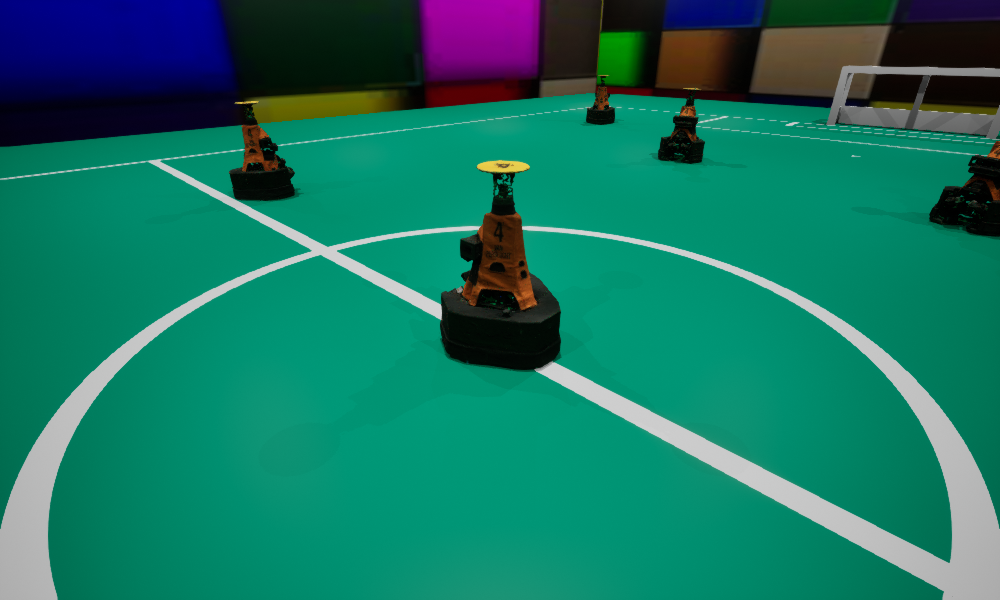0 orange robot TechUnited: (440, 160, 560, 369), (929, 141, 999, 235), (229, 101, 294, 200), (658, 88, 704, 162), (586, 75, 614, 124)
